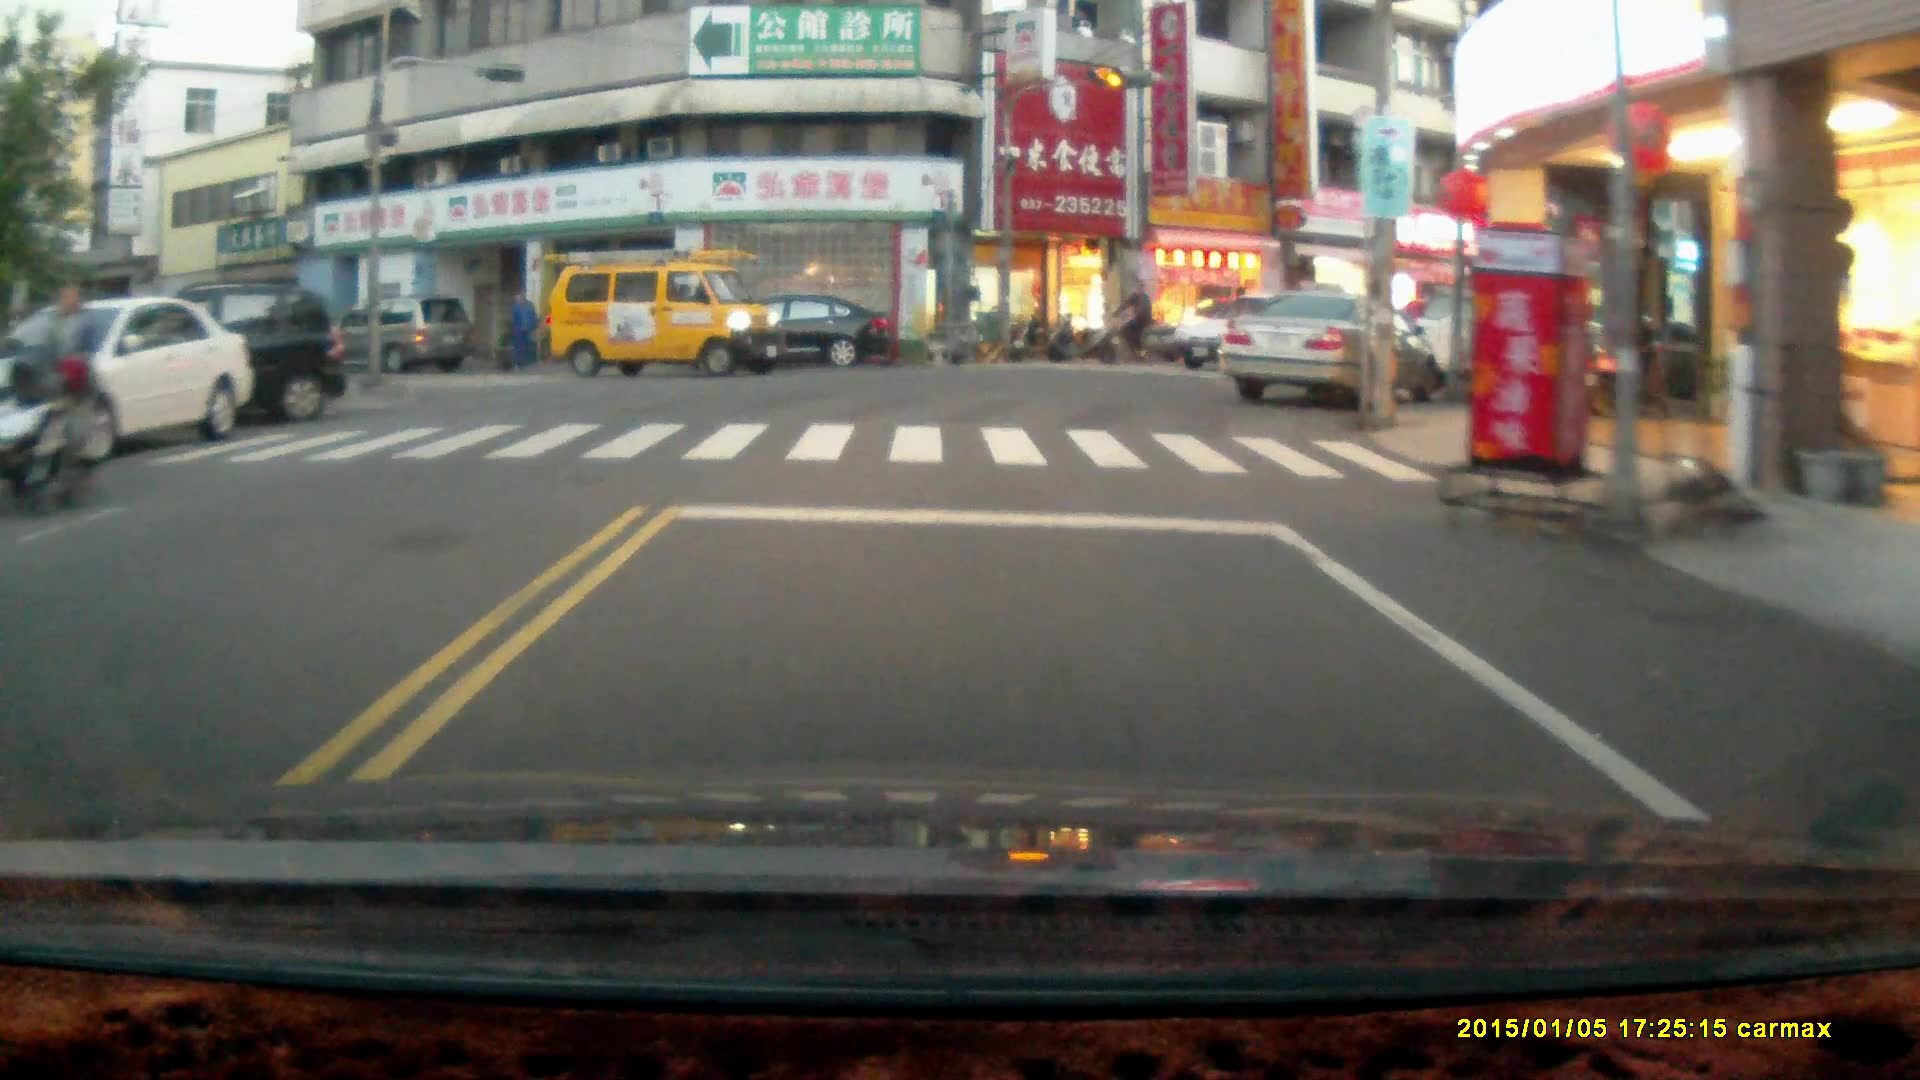pedestrian: (38, 279, 94, 483), (504, 287, 534, 369)
rider: (0, 340, 77, 513), (1093, 275, 1161, 365)
vehicle: (48, 276, 345, 426), (2, 296, 249, 456), (540, 246, 785, 382), (1215, 287, 1440, 404), (1400, 285, 1620, 398), (1157, 286, 1364, 378), (712, 293, 890, 371), (323, 294, 471, 381)
